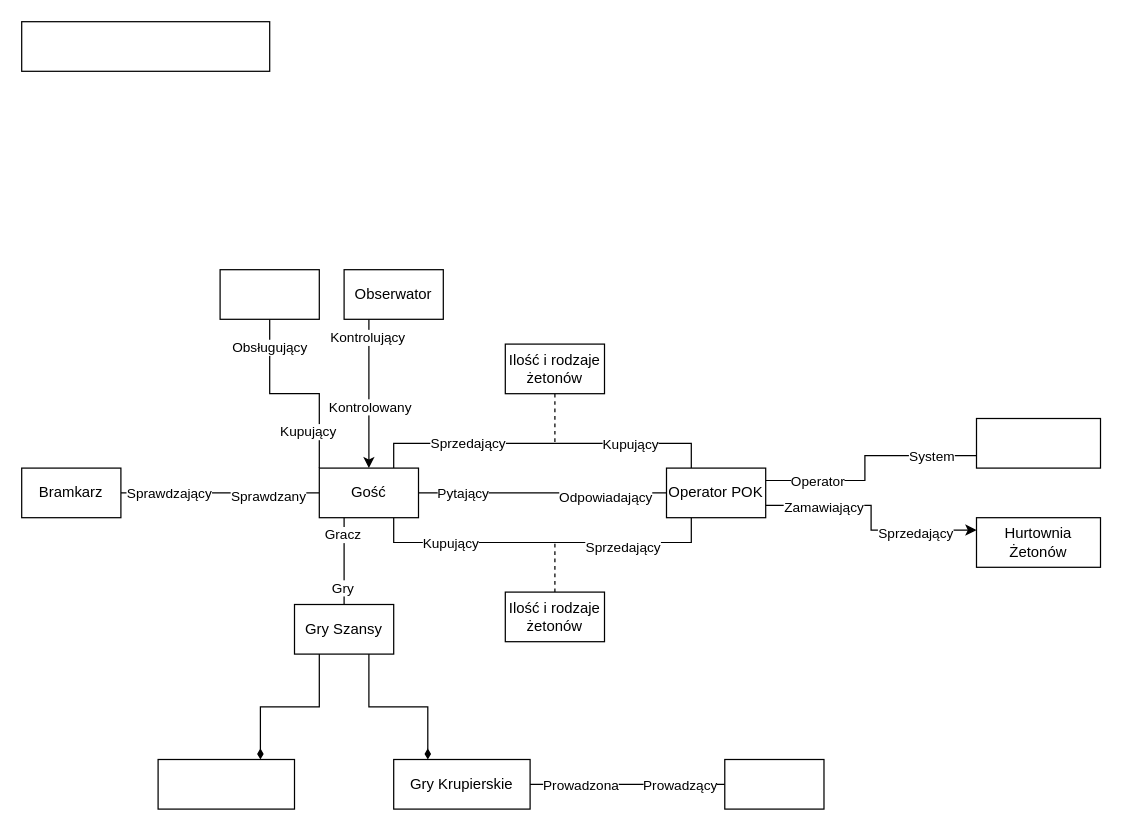
This 1122x831 diagram has some shape labels left out. Here are the shapes that lost their labels. From the top down, the centre of each, then its label:
At [145,45]: "Diagram Klas - Konceptualny".
At [269,293]: "Obsługa Baru".
At [1037,442]: "System śledzenia stanu magazynu".
At [225,783]: "Gry Zautomatyzoane".
At [774,783]: "Krupier".
